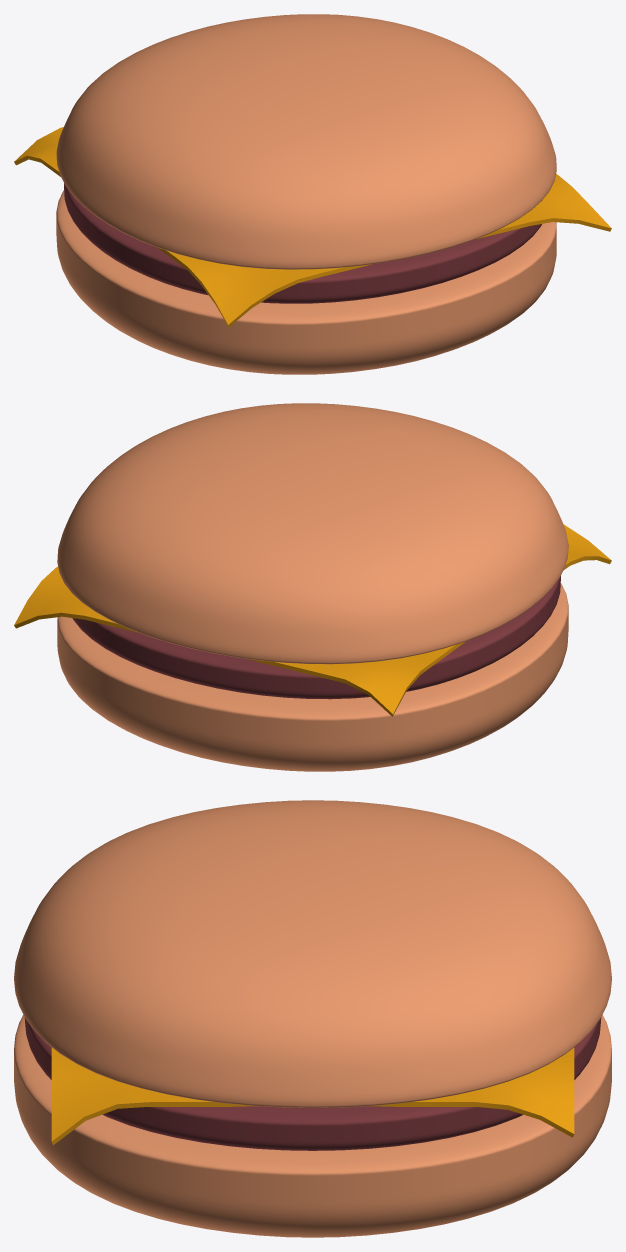
The model's file is hamburger.glb.
3 renders of one model, top to bottom at view 1: azimuth 30°, elevation 25°; view 2: azimuth 150°, elevation 25°; view 3: azimuth 270°, elevation 25°, orthographic. The views are drawn at different scales.
Parts seen in each view (by area): view 1: Cube.002, Cube, Cube.001, Plane; view 2: Cube.002, Cube, Cube.001, Plane; view 3: Cube.002, Cube, Cube.001, Plane.
Boxes of the visible parts, x1,y1,x2,y2 form: Cube.002: [56, 14, 556, 269]; Cube: [56, 190, 556, 374]; Cube.001: [64, 183, 541, 303]; Plane: [14, 127, 611, 327]; Cube.002: [57, 403, 568, 664]; Cube: [57, 583, 568, 771]; Cube.001: [72, 576, 560, 699]; Plane: [14, 524, 611, 716]; Cube.002: [14, 800, 611, 1107]; Cube: [14, 1015, 611, 1237]; Cube.001: [24, 1017, 601, 1150]; Plane: [51, 1047, 574, 1145].
Size of the model in its own units: 9.16 by 4.84 by 9.16.
